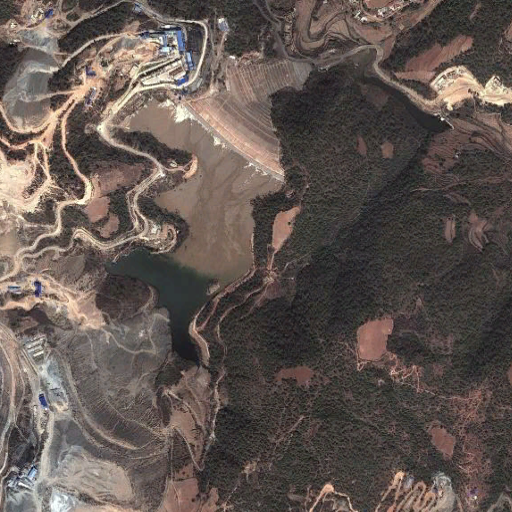tp: (105, 57, 313, 366)
